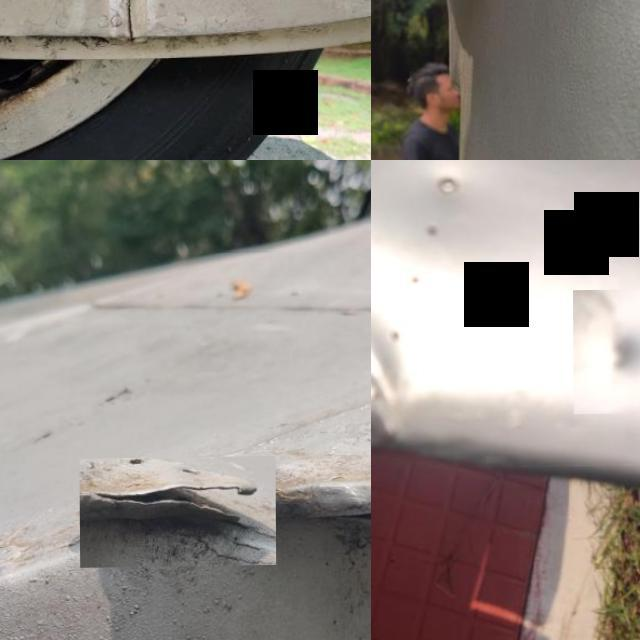Crack: (79, 457, 275, 568), (108, 0, 146, 45)
Dent: (371, 247, 442, 469), (572, 290, 640, 416)
